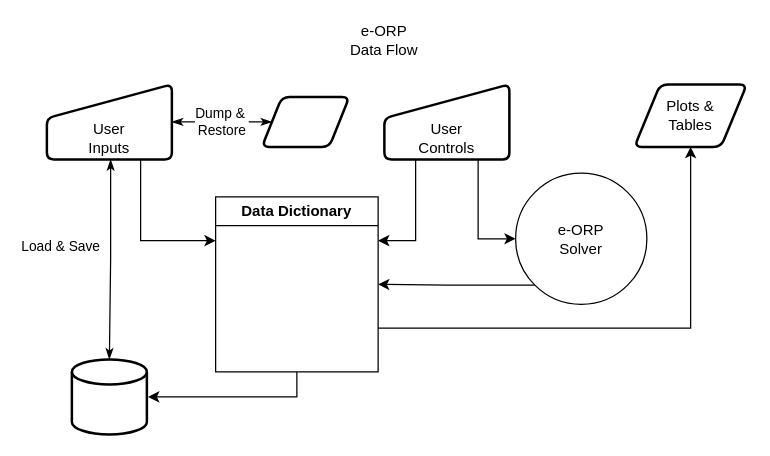
This 770x456 diagram has some shape labels left out. The box of each missing label's shape, as (x1, y1, x2, y2) in pixels:
storage: (70, 358, 148, 435)
Text Widget: (260, 95, 350, 148)
